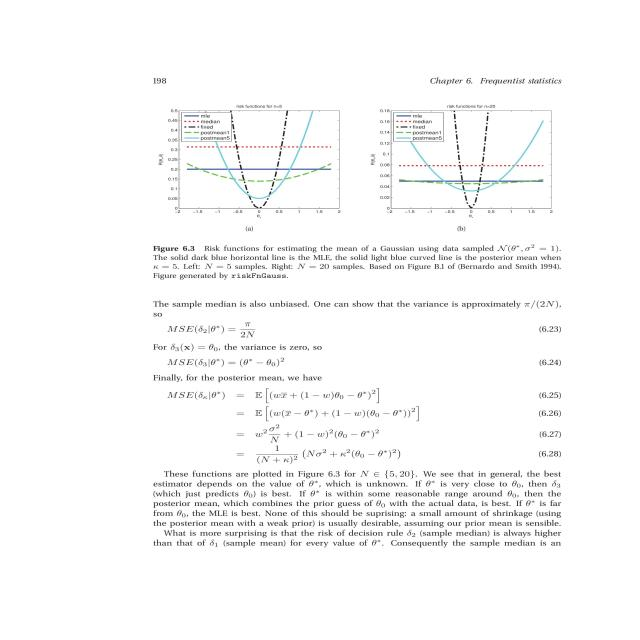diagram: (99, 87, 629, 288)
